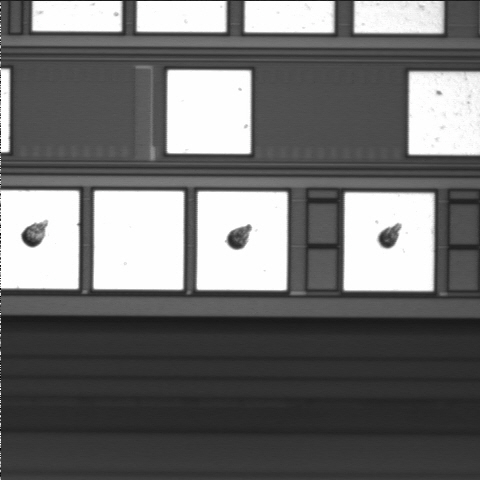pad: (94, 191, 184, 290), (197, 192, 287, 290), (344, 193, 434, 291), (167, 70, 251, 154)
